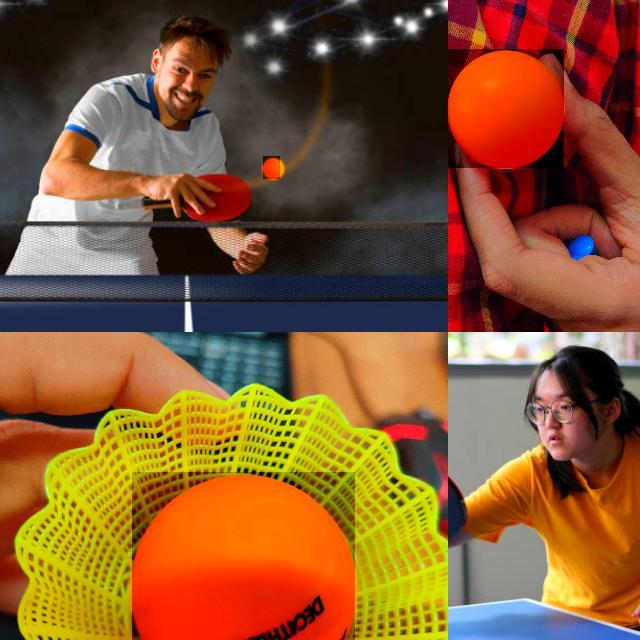ping-pong-ball: (132, 472, 357, 639), (448, 49, 566, 170), (262, 156, 282, 180)
